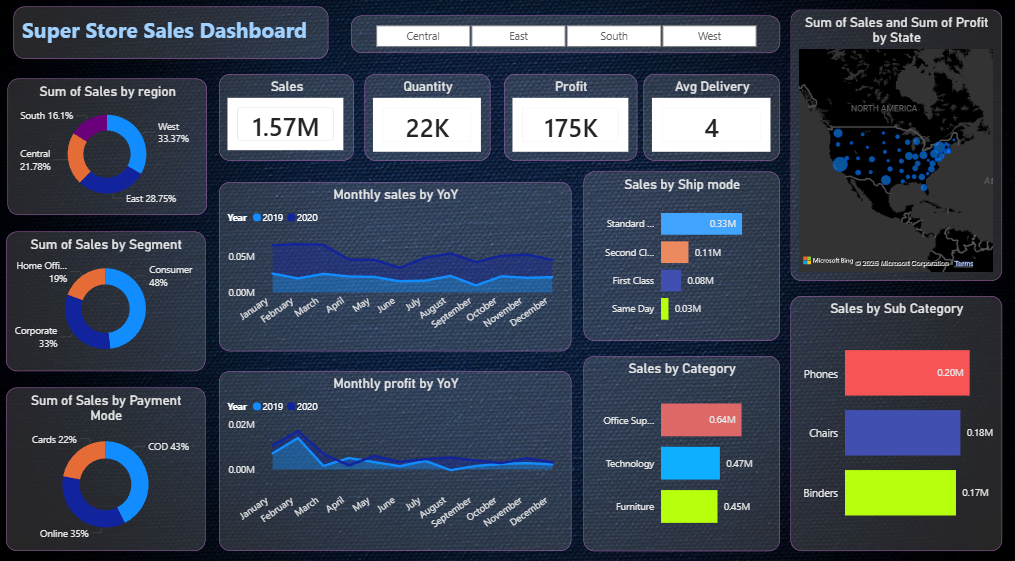

Layout of this report page (visuals, bound fields, positions):
{"tool":"powerbi","page":{"name":"Page 1","canvas":[1280,720],"ordinal":0},"visuals":[{"type":"clusteredBarChart","title":"Sales by Category","fields":{"Category":["SuperStore Sales DataSet xlsx - Sheet1.Category"],"Y":["Sum(SuperStore Sales DataSet xlsx - Sheet1.Sales)"]},"box":[735.1,453.5,247.6,245.7],"z":0},{"type":"clusteredBarChart","title":"Sales by Sub Category","fields":{"Category":["SuperStore Sales DataSet xlsx - Sheet1.Sub-Category"],"Y":["Sum(SuperStore Sales DataSet xlsx - Sheet1.Sales)"]},"box":[995.9,378,266.5,321.3],"z":1000},{"type":"clusteredBarChart","title":"Sales by Ship mode","fields":{"Category":["SuperStore Sales DataSet xlsx - Sheet1.Ship Mode"],"Y":["Sum(SuperStore Sales DataSet xlsx - Sheet1.Sales)"]},"box":[735.1,221.1,247.6,213.5],"z":2000},{"type":"stackedAreaChart","title":"Monthly sales by YoY","fields":{"Y":["Sum(SuperStore Sales DataSet xlsx - Sheet1.Sales)"],"Series":["SuperStore Sales DataSet xlsx - Sheet1.Order Date.Variation.Date Hierarchy.Year"],"Category":["SuperStore Sales DataSet xlsx - Sheet1.Order Date.Variation.Date Hierarchy.Month"]},"box":[275.9,234.3,444.1,213.5],"z":3000},{"type":"stackedAreaChart","title":"Monthly profit by YoY","fields":{"Series":["SuperStore Sales DataSet xlsx - Sheet1.Order Date.Variation.Date Hierarchy.Year"],"Category":["SuperStore Sales DataSet xlsx - Sheet1.Order Date.Variation.Date Hierarchy.Month","SuperStore Sales DataSet xlsx - Sheet1.Order Date.Variation.Date Hierarchy.Day"],"Y":["Sum(SuperStore Sales DataSet xlsx - Sheet1.Profit)"]},"box":[275.9,472.4,444.1,226.8],"z":4000},{"type":"map","fields":{"Category":["SuperStore Sales DataSet xlsx - Sheet1.State"],"Size":["Sum(SuperStore Sales DataSet xlsx - Sheet1.Sales)"]},"box":[995.9,17,266.5,342],"z":5000},{"type":"donutChart","fields":{"Category":["SuperStore Sales DataSet xlsx - Sheet1.Segment"],"Y":["Sum(SuperStore Sales DataSet xlsx - Sheet1.Sales)"]},"box":[7.6,296.7,251.3,175.7],"z":6000},{"type":"donutChart","fields":{"Category":["SuperStore Sales DataSet xlsx - Sheet1.Payment Mode"],"Y":["Sum(SuperStore Sales DataSet xlsx - Sheet1.Sales)"]},"box":[7.6,493.2,251.3,206],"z":7000},{"type":"slicer","fields":{"Values":["SuperStore Sales DataSet xlsx - Sheet1.Region"]},"box":[442.2,24.6,540.5,47.2],"z":8000},{"type":"textbox","box":[17,13.2,396.9,66.1],"z":9000},{"type":"cardVisual","title":"Sales","fields":{"Data":["Sum(SuperStore Sales DataSet xlsx - Sheet1.Sales)"]},"box":[275.9,98.3,170.1,109.6],"z":10000},{"type":"cardVisual","title":"Quantity","fields":{"Data":["Sum(SuperStore Sales DataSet xlsx - Sheet1.Quantity)"]},"box":[459.2,98.3,158.7,109.6],"z":11000},{"type":"cardVisual","title":"Profit","fields":{"Data":["Sum(SuperStore Sales DataSet xlsx - Sheet1.Profit)"]},"box":[635,98.3,168.2,109.6],"z":12000},{"type":"cardVisual","title":"Avg Delivery","fields":{"Data":["Avg(Sheet1.AvgDelivery)"]},"box":[810.7,98.3,172,109.6],"z":13000},{"type":"donutChart","title":"Sum of Sales by region","fields":{"Y":["Sum(Sheet1.Sales)"],"Category":["Sheet1.Region"]},"box":[9.4,103.9,251.3,172],"z":14000}]}

Visuals, with their boxes in screenshot pixels (x1, y1, x2, y2), scaled from the page's 1280x720 canvas onto the 1015x561 screenshot:
"Sales by Category" clusteredBarChart: select_region(583, 353, 779, 545)
"Sales by Sub Category" clusteredBarChart: select_region(790, 295, 1001, 545)
"Sales by Ship mode" clusteredBarChart: select_region(583, 172, 779, 339)
"Monthly sales by YoY" stackedAreaChart: select_region(219, 183, 571, 349)
"Monthly profit by YoY" stackedAreaChart: select_region(219, 368, 571, 545)
map - SuperStore Sales DataSet xlsx - Sheet1.State x Sum(SuperStore Sales DataSet xlsx - Sheet1.Sales): select_region(790, 13, 1001, 280)
donutChart - SuperStore Sales DataSet xlsx - Sheet1.Segment x Sum(SuperStore Sales DataSet xlsx - Sheet1.Sales): select_region(6, 231, 205, 368)
donutChart - SuperStore Sales DataSet xlsx - Sheet1.Payment Mode x Sum(SuperStore Sales DataSet xlsx - Sheet1.Sales): select_region(6, 384, 205, 545)
slicer - SuperStore Sales DataSet xlsx - Sheet1.Region: select_region(351, 19, 779, 56)
textbox: select_region(13, 10, 328, 62)
"Sales" cardVisual: select_region(219, 77, 354, 162)
"Quantity" cardVisual: select_region(364, 77, 490, 162)
"Profit" cardVisual: select_region(504, 77, 637, 162)
"Avg Delivery" cardVisual: select_region(643, 77, 779, 162)
"Sum of Sales by region" donutChart: select_region(7, 81, 207, 215)
